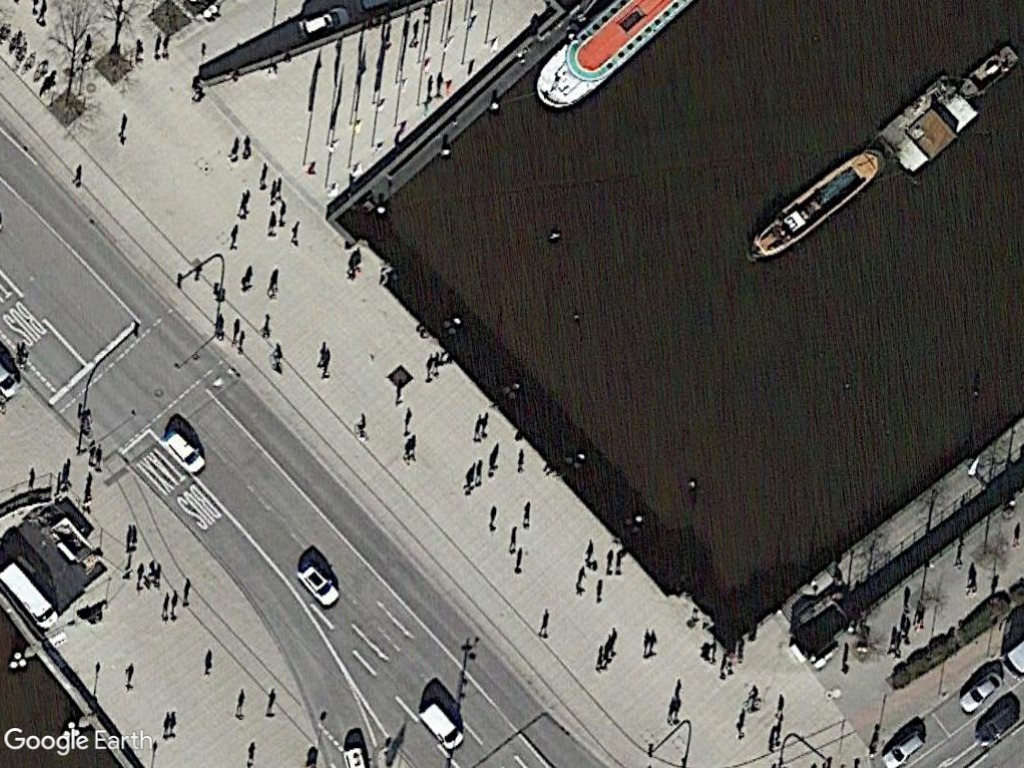boat: (743, 145, 887, 270)
car: (294, 558, 344, 612), (954, 668, 1005, 717), (161, 426, 207, 479), (877, 724, 927, 768)
van: (0, 560, 63, 629), (417, 699, 468, 753)
